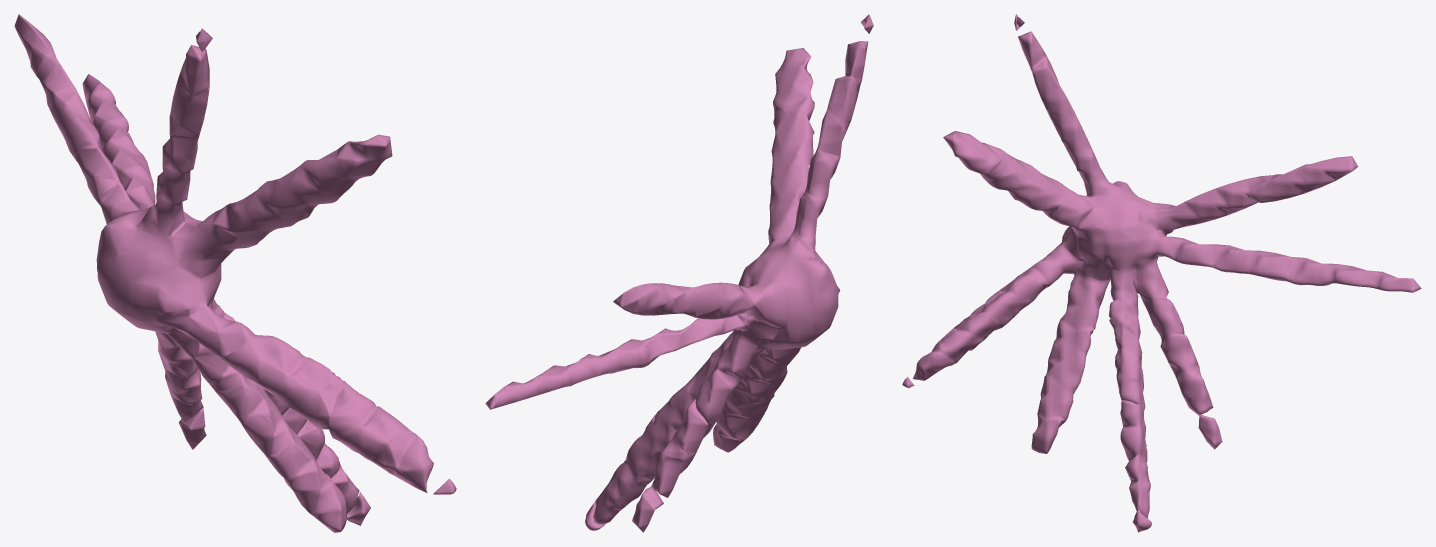
File: sun3.gltf
The picture shows the model from 3 angles, left to right: view 1: azimuth 30°, elevation 25°; view 2: azimuth 150°, elevation 25°; view 3: azimuth 270°, elevation 25°; orthographic projection. The views are drawn at different scales.
Parts seen in each view (by area): view 1: Mball.006; view 2: Mball.006; view 3: Mball.006.
Part boxes in pixels (left/top/right/bottom): Mball.006: left=14, top=14, right=456, bottom=532; Mball.006: left=485, top=14, right=873, bottom=532; Mball.006: left=902, top=14, right=1421, bottom=532.
Size of the model in its own units: 14.73 by 30.7 by 33.22.
Materials: 1 (1 with a texture image).
